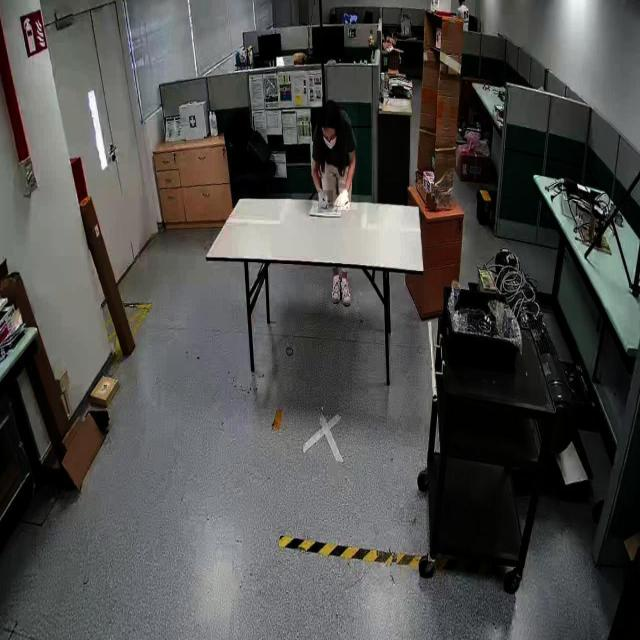face_mask: (320, 130, 338, 153)
hand_glove: (318, 190, 334, 213), (334, 188, 350, 210)
head_nohelmet: (319, 98, 339, 129)
person: (312, 102, 358, 211)
shoes: (339, 272, 352, 306), (329, 272, 341, 304)
